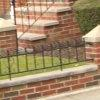stairs: (4, 0, 70, 48)
